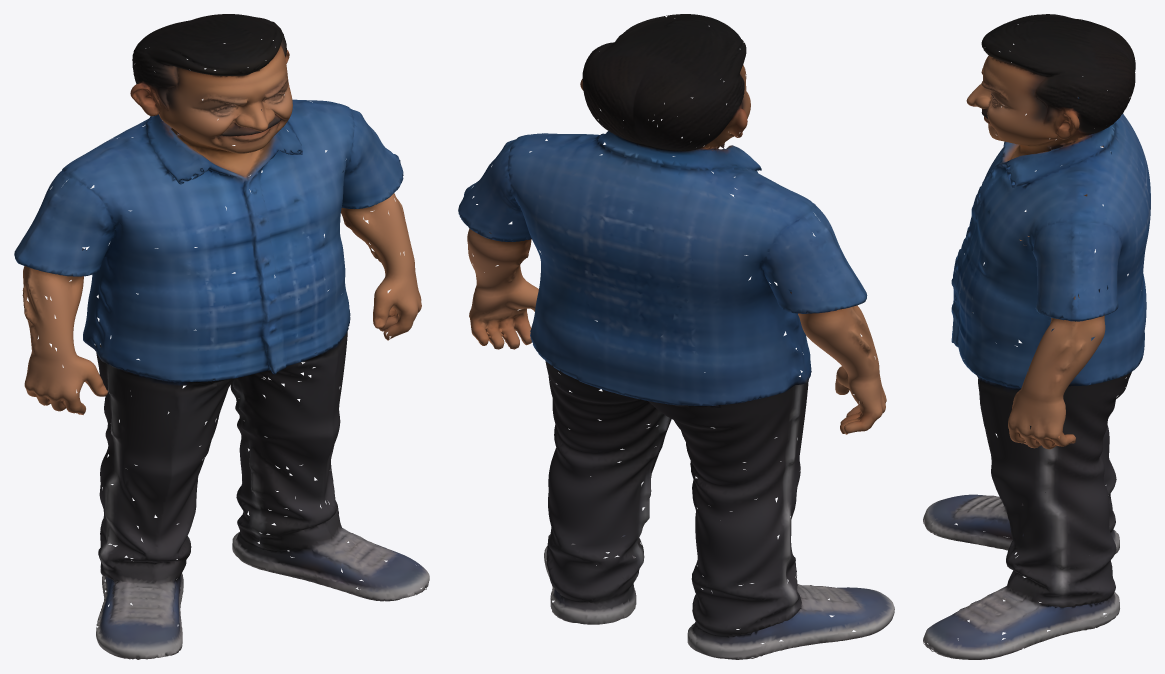
File: kejriwal.glb
3 views of the same model, side by side, from view 1: azimuth 30°, elevation 25°; view 2: azimuth 150°, elevation 25°; view 3: azimuth 270°, elevation 25° (orthographic). The views are drawn at different scales.
Bounding box in the file's own units: 1.34 × 1.82 × 0.6776.
